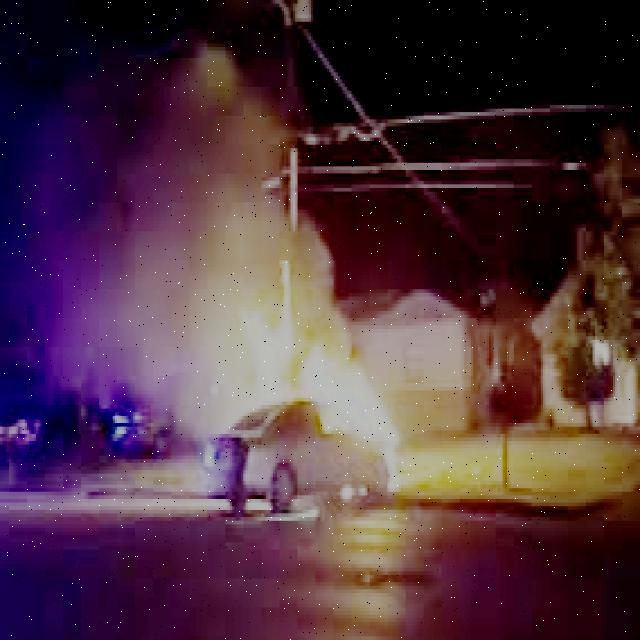api: (238, 301, 405, 507)
